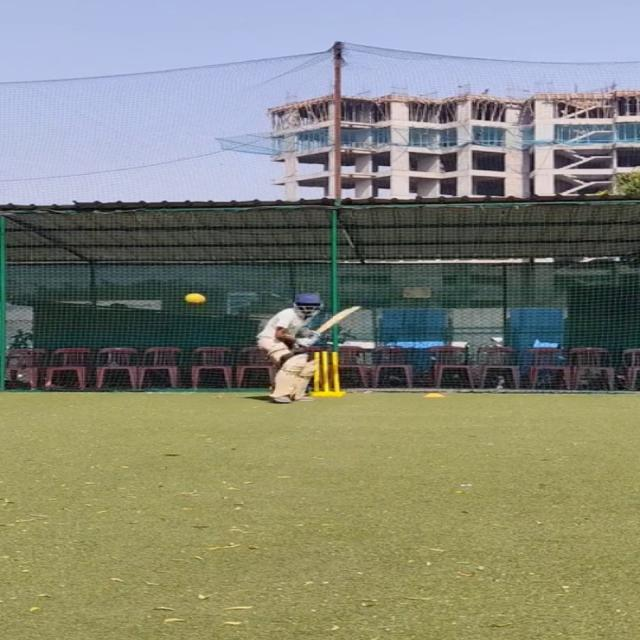ball: (182, 291, 211, 306)
stump: (313, 349, 345, 398)
